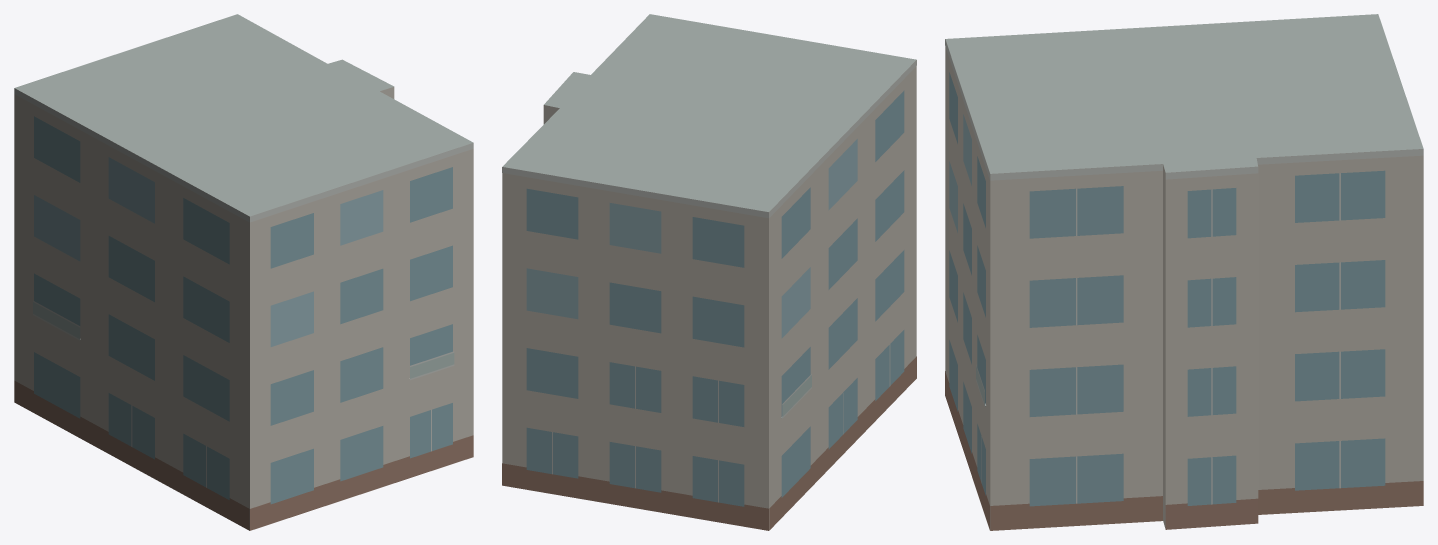
The model's file is survey-upis-32701483.glb.
3 views of the same model, side by side, from view 1: azimuth 30°, elevation 25°; view 2: azimuth 150°, elevation 25°; view 3: azimuth 270°, elevation 25° (orthographic). The views are drawn at different scales.
Visible parts, largest first — view 1: survey-upis-32701483.tmp; view 2: survey-upis-32701483.tmp; view 3: survey-upis-32701483.tmp.
Boxes of the visible parts, left/top/right/bottom form: survey-upis-32701483.tmp: left=14, top=14, right=473, bottom=530; survey-upis-32701483.tmp: left=502, top=14, right=916, bottom=530; survey-upis-32701483.tmp: left=945, top=14, right=1423, bottom=530.
Size of the model in its own units: 12.31 by 12.8 by 15.56.
